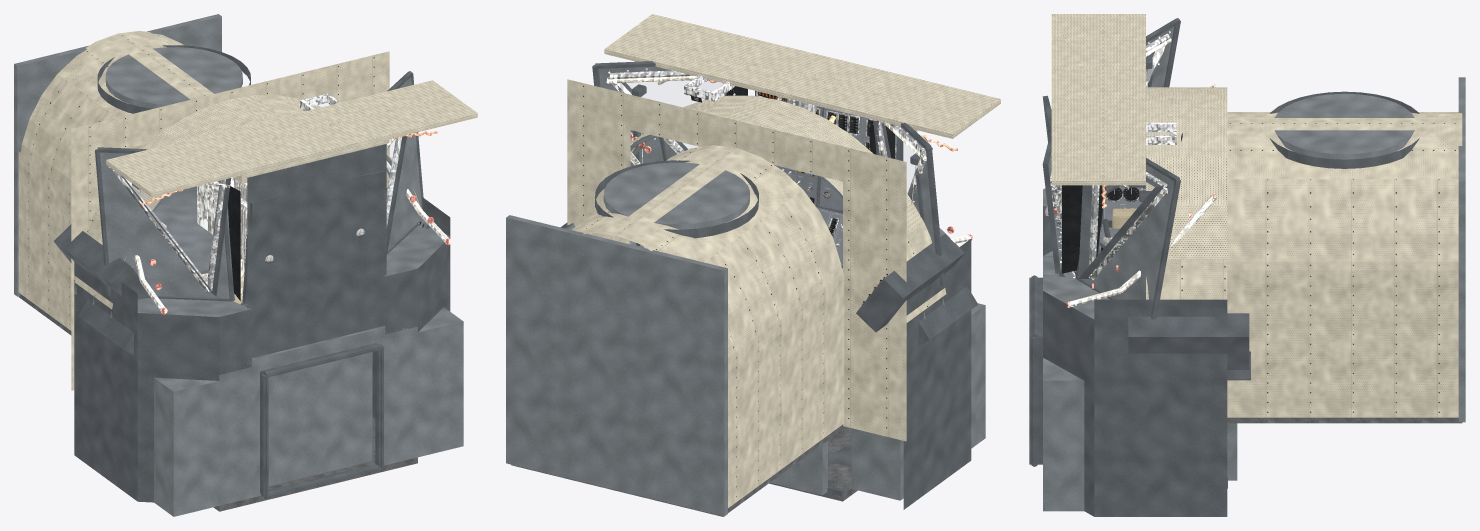
The model's file is lm_cabin.glb.
The picture shows the model from 3 angles, left to right: view 1: azimuth 30°, elevation 25°; view 2: azimuth 150°, elevation 25°; view 3: azimuth 270°, elevation 25°; orthographic projection. The views are drawn at different scales.
Parts seen in each view (by area): view 1: HAB_c_struct, HAB_c_shell, HAB_c_hatch, HAB_c_equip, HAB_c_floor; view 2: HAB_c_struct, HAB_c_shell, HAB_c_equip, HAB_c_front, HAB_c_floor; view 3: HAB_c_shell, HAB_c_struct, HAB_c_equip, HAB_c_floor, HAB_c_side.
Part boxes in pixels (bbox=[...]): HAB_c_struct: bbox=[14, 14, 463, 516]; HAB_c_shell: bbox=[18, 31, 477, 390]; HAB_c_hatch: bbox=[268, 352, 372, 486]; HAB_c_equip: bbox=[108, 93, 451, 314]; HAB_c_floor: bbox=[18, 294, 417, 511]; HAB_c_struct: bbox=[506, 61, 985, 516]; HAB_c_shell: bbox=[567, 14, 1000, 508]; HAB_c_equip: bbox=[606, 68, 972, 302]; HAB_c_front: bbox=[756, 91, 897, 265]; HAB_c_floor: bbox=[511, 424, 857, 516]; HAB_c_shell: bbox=[1051, 14, 1462, 417]; HAB_c_struct: bbox=[1029, 18, 1465, 516]; HAB_c_equip: bbox=[1045, 31, 1216, 307]; HAB_c_floor: bbox=[1227, 417, 1462, 423]; HAB_c_side: bbox=[1099, 185, 1249, 351].
Size of the model in its own units: 2.38 by 2.24 by 2.55.
Materials: 49 (30 with a texture image).
